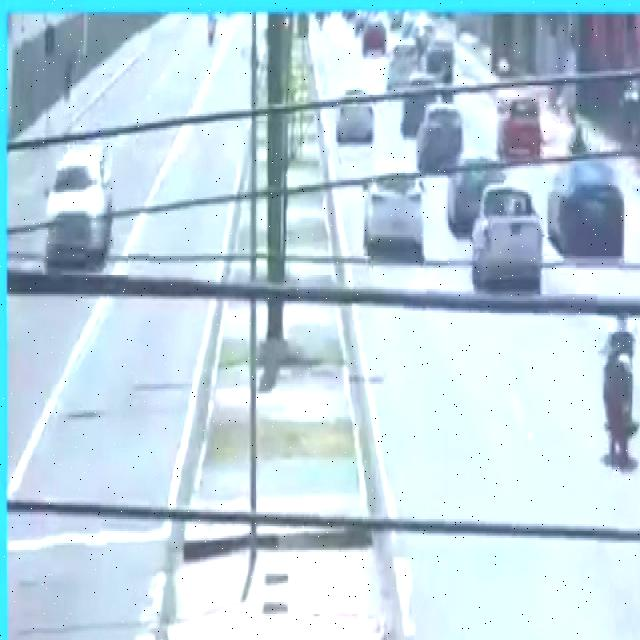biker: (601, 308, 640, 486)
car: (44, 133, 118, 283), (546, 145, 630, 261), (362, 150, 434, 275), (467, 188, 551, 294), (498, 93, 542, 164), (336, 76, 375, 150)
